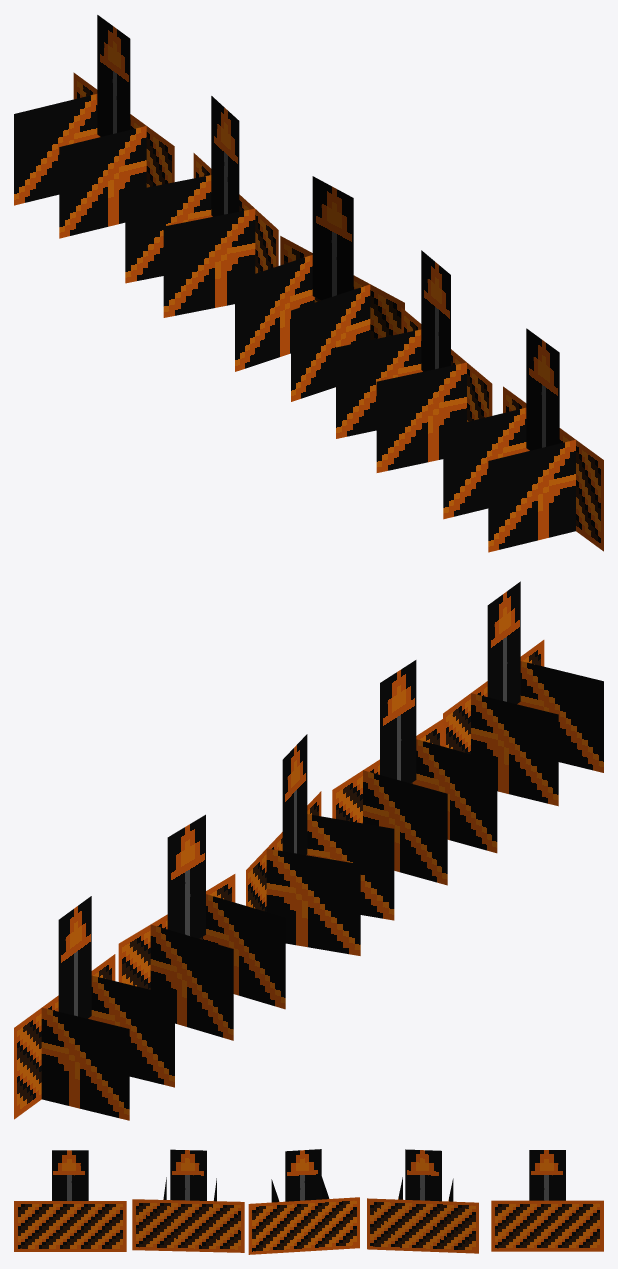
Rendered from Blockade.glb.
The picture shows the model from 3 angles, top to bottom: view 1: azimuth 30°, elevation 25°; view 2: azimuth 150°, elevation 25°; view 3: azimuth 270°, elevation 25°; orthographic projection. The views are drawn at different scales.
Parts seen in each view (by area): view 1: Cube.004, Cube, Cube.003, Cube.002, Cube.001; view 2: Cube.003, Cube.002, Cube.004, Cube.001, Cube; view 3: Cube, Cube.001, Cube.002, Cube.003, Cube.004.
Part boxes in pixels (box(x1,y1,x2,y2)): Cube.004: box(443, 328, 603, 552); Cube: box(235, 176, 404, 401); Cube.003: box(14, 15, 174, 238); Cube.002: box(125, 96, 278, 317); Cube.001: box(336, 250, 492, 472); Cube.003: box(14, 896, 174, 1120); Cube.002: box(118, 814, 285, 1040); Cube.004: box(443, 581, 603, 806); Cube.001: box(332, 660, 497, 885); Cube: box(246, 734, 394, 955); Cube: box(248, 1149, 359, 1254); Cube.001: box(132, 1149, 244, 1252); Cube.002: box(367, 1149, 478, 1253); Cube.003: box(491, 1150, 603, 1251); Cube.004: box(14, 1150, 126, 1251).
Bounding box in the file's own units: 1.2 × 1.94 × 10.48.
1 material, 1 textured.
